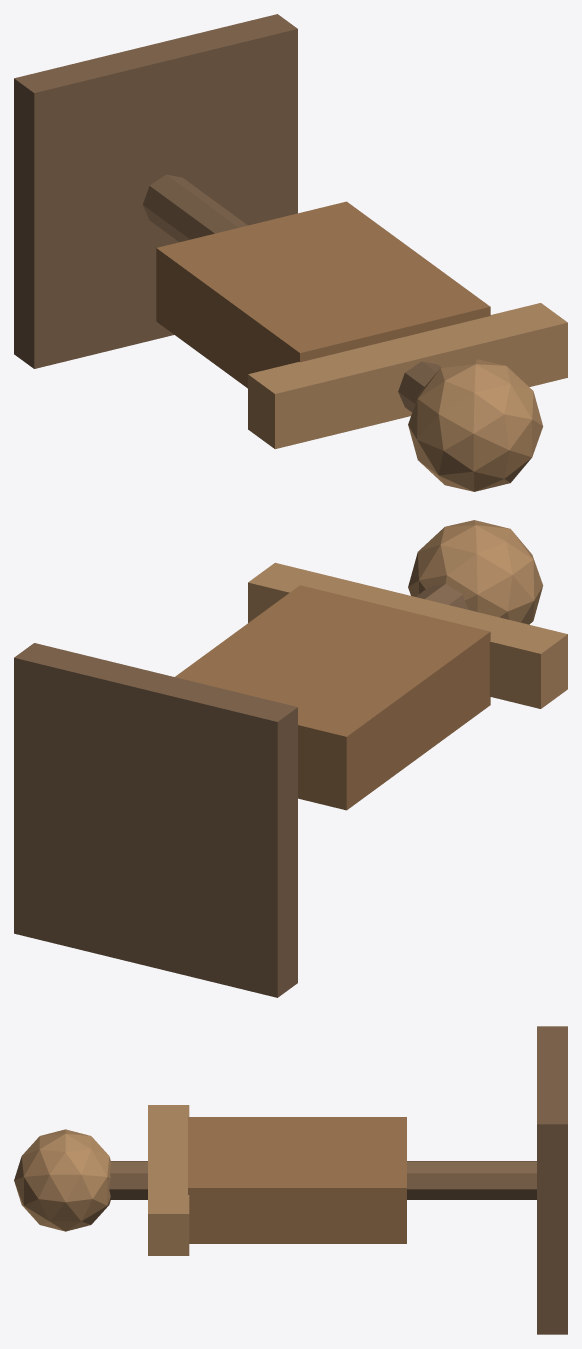
The model's file is display_armor_mannequin.glb.
3 views of the same model, one above another, from view 1: azimuth 30°, elevation 25°; view 2: azimuth 150°, elevation 25°; view 3: azimuth 270°, elevation 25° (orthographic). The views are drawn at different scales.
Parts seen in each view (by area): view 1: base, torso, shoulders, head, stand; view 2: base, torso, shoulders, head, stand; view 3: torso, base, head, stand, shoulders.
Part boxes in pixels (left/top/right/bottom): base: left=14, top=14, right=297, bottom=368; torso: left=156, top=201, right=490, bottom=388; shoulders: left=248, top=303, right=567, bottom=449; head: left=408, top=359, right=543, bottom=491; stand: left=142, top=174, right=441, bottom=412; base: left=14, top=643, right=297, bottom=997; torso: left=175, top=585, right=490, bottom=810; shoulders: left=248, top=562, right=567, bottom=708; head: left=408, top=520, right=543, bottom=624; stand: left=123, top=584, right=468, bottom=852; torso: left=188, top=1117, right=406, bottom=1243; base: left=537, top=1026, right=567, bottom=1334; head: left=14, top=1129, right=110, bottom=1231; stand: left=109, top=1161, right=536, bottom=1199; shoulders: left=148, top=1105, right=189, bottom=1255.
Bounding box in the file's own units: 1 × 0.9 × 2.15.
